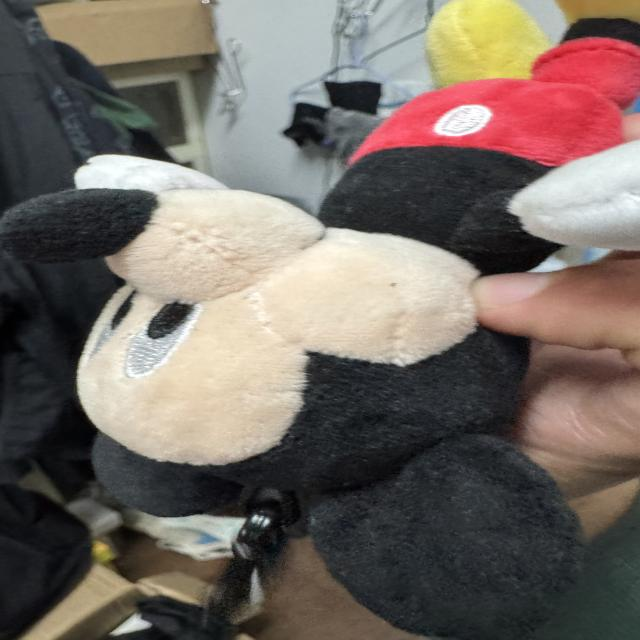mickey: (0, 20, 639, 639)
